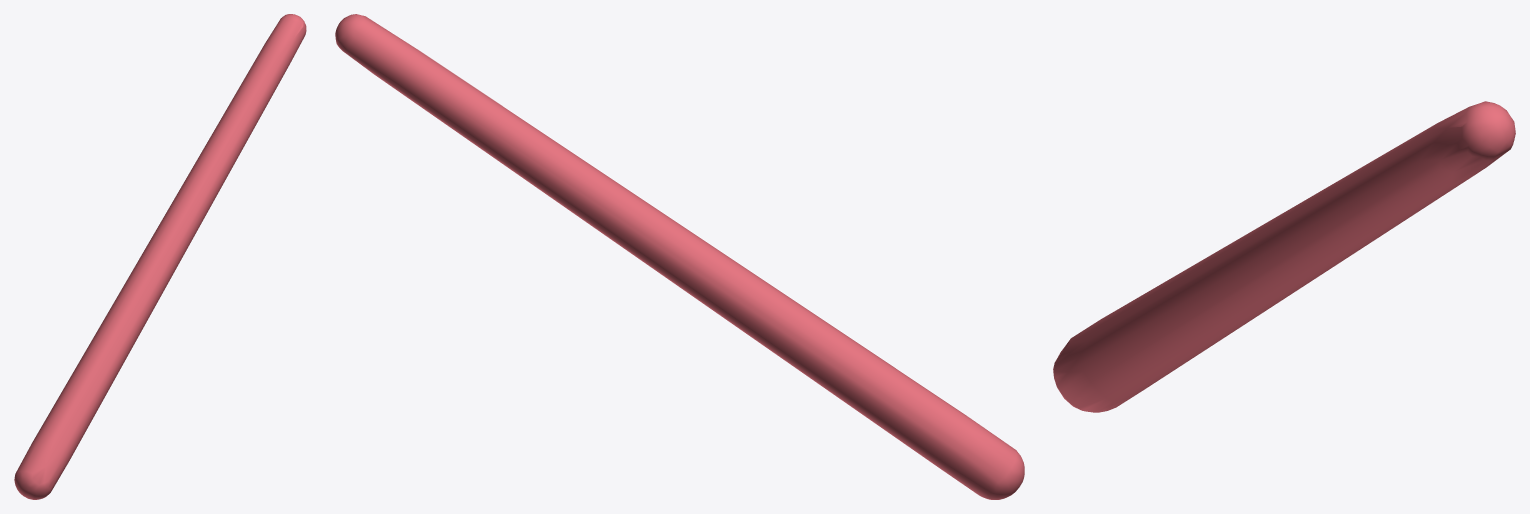
File: fma22801_fj2311.glb
3 views of the same model, side by side, from view 1: azimuth 30°, elevation 25°; view 2: azimuth 150°, elevation 25°; view 3: azimuth 270°, elevation 25° (orthographic). The views are drawn at different scales.
Visible parts, largest first — view 1: FMA22801_FJ2311; view 2: FMA22801_FJ2311; view 3: FMA22801_FJ2311.
Part boxes in pixels (x1=…): FMA22801_FJ2311: x1=14, y1=14, x2=306, y2=499; FMA22801_FJ2311: x1=335, y1=14, x2=1024, y2=499; FMA22801_FJ2311: x1=1053, y1=101, x2=1515, y2=412.
Size of the model in its own units: 0.021 by 0.0169 by 0.0109.
